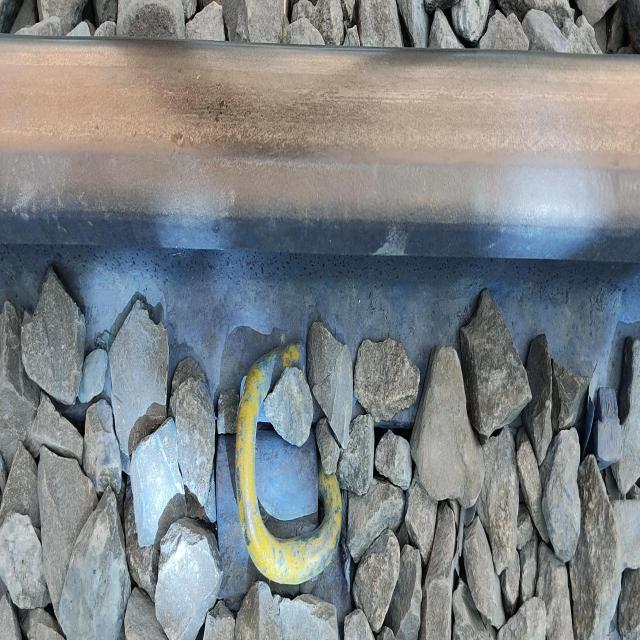Good Fasteners: (209, 322, 373, 601)
